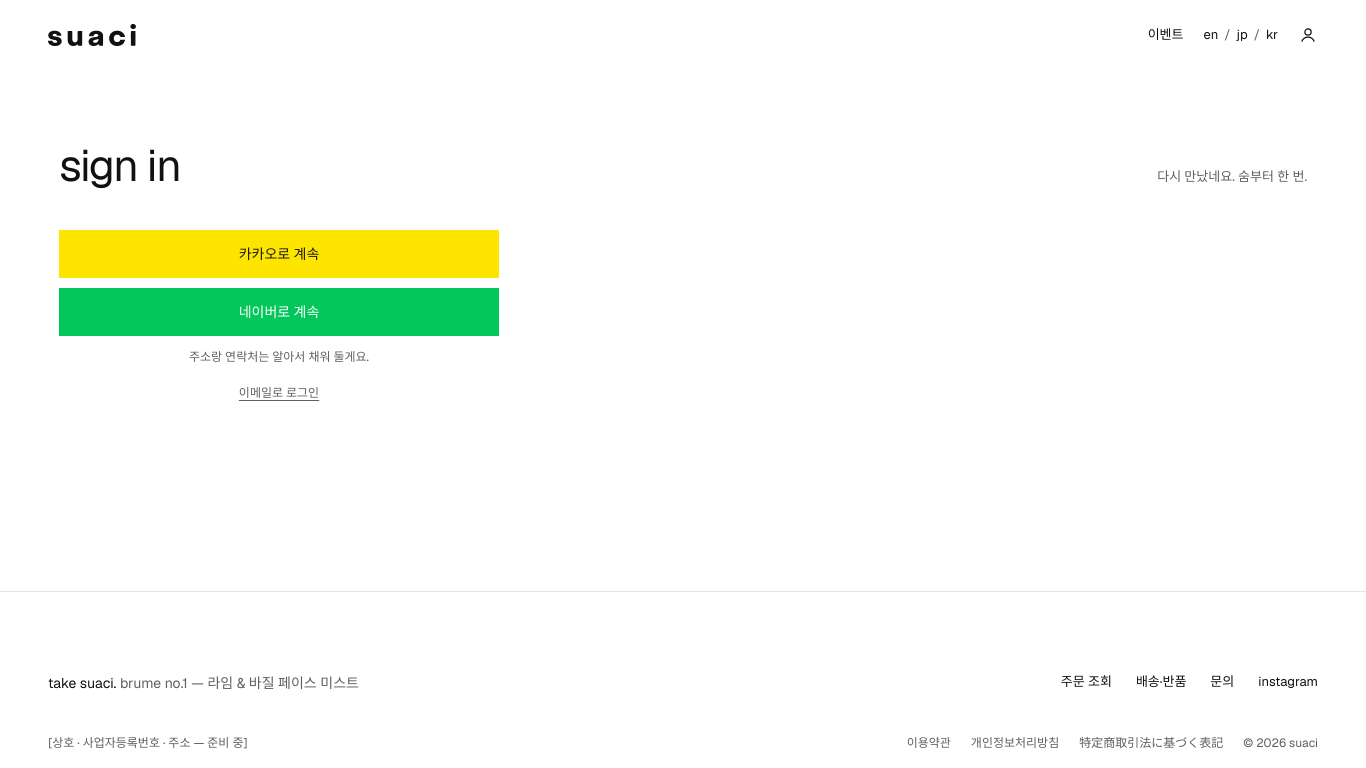
로그인 페이지 › 이메일 폼은 접혀 있고 '이메일로 로그인'을 누르면 보인다
The width and height of the screenshot is (1366, 768).
Expected: the field with placeholder "you@email.com" is not shown
Click the button "이메일로 로그인".
click(279, 393)  # box [239,384,319,403]
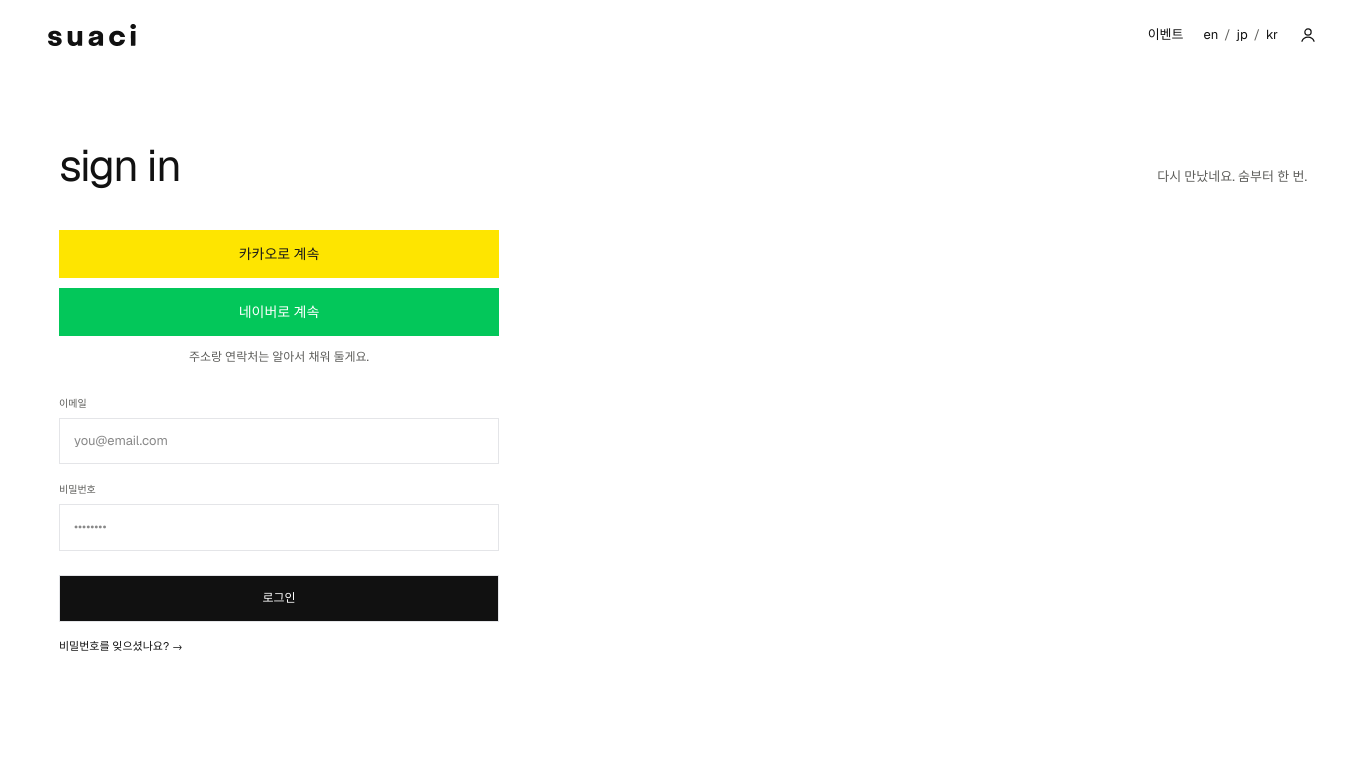
Result: the field with placeholder "you@email.com" is shown at [59,418,499,464]
Result: the password field with placeholder "••••••••" is shown at [59,504,499,551]
